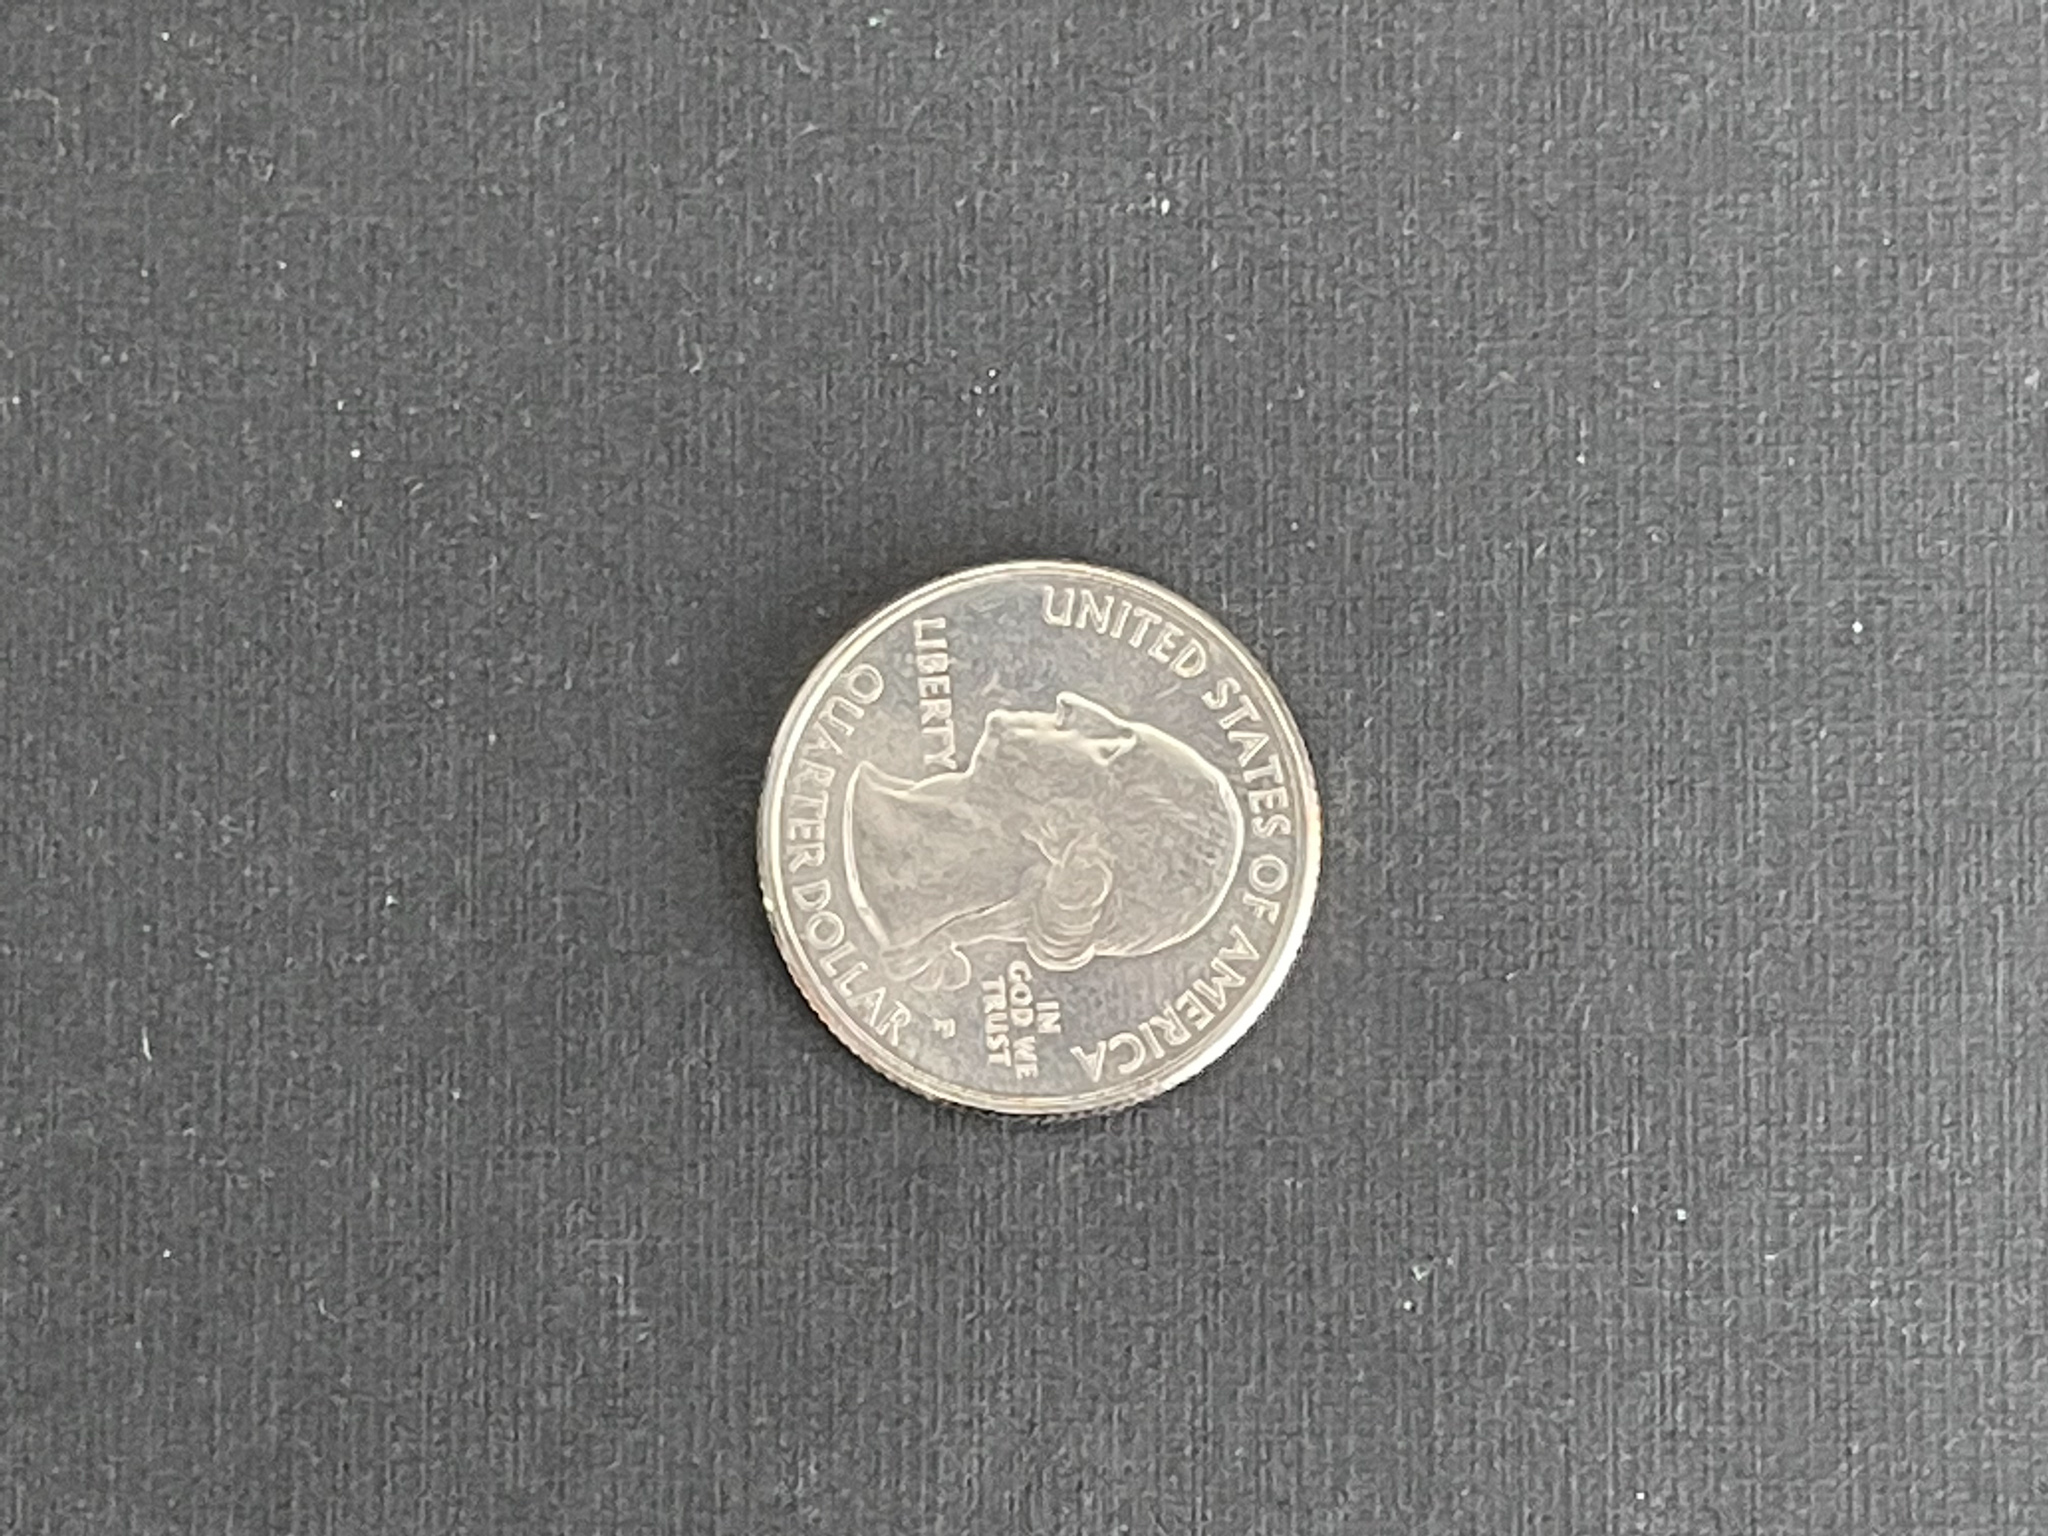quarter: (747, 550, 1327, 1126)
